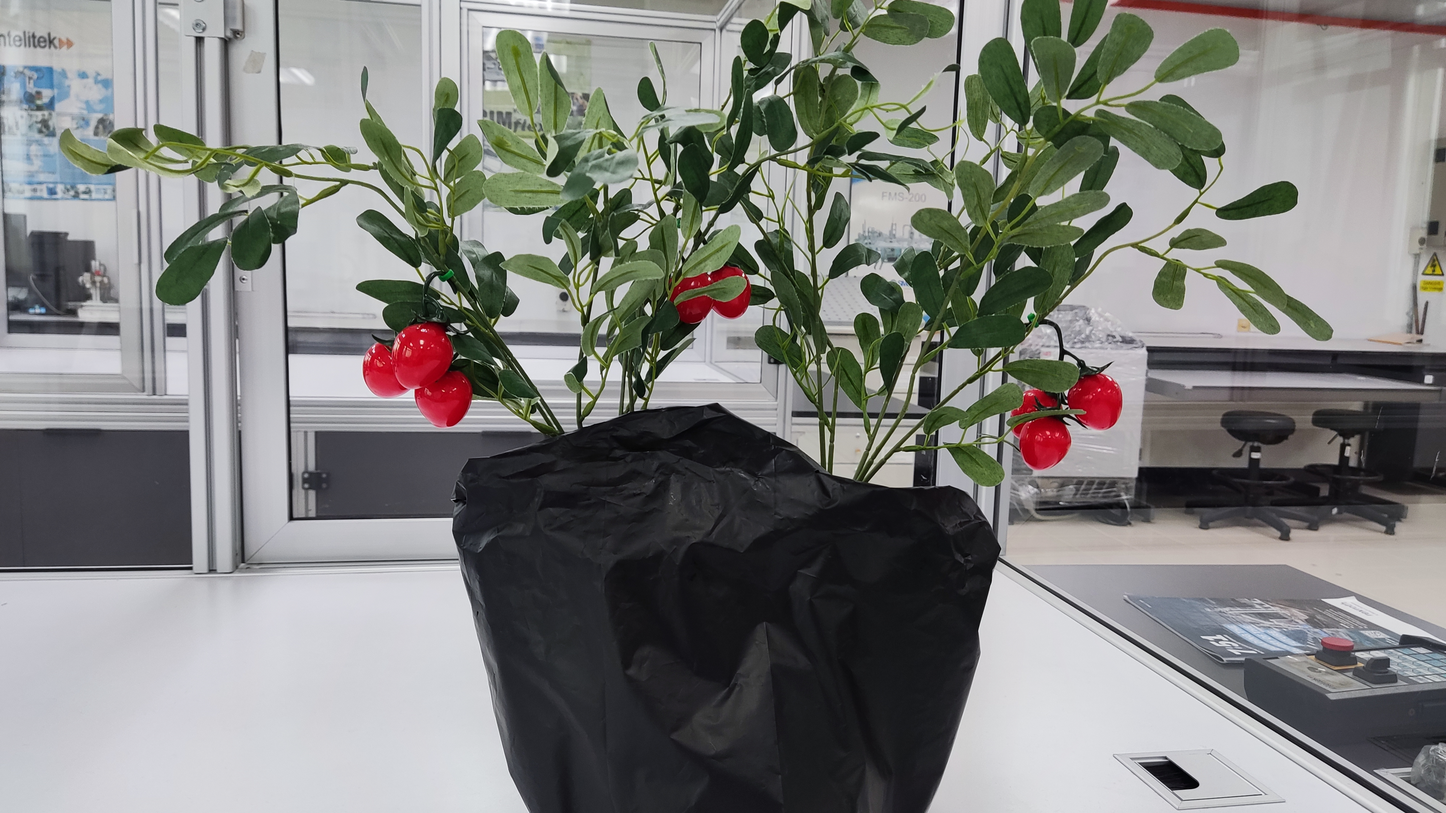peduncle: (1045, 319, 1064, 348), (423, 271, 438, 293)
strawberry: (391, 321, 453, 387), (413, 370, 471, 427), (1067, 373, 1123, 430), (1019, 418, 1071, 471), (361, 341, 406, 397), (711, 266, 751, 319), (1012, 389, 1058, 417), (669, 272, 710, 300), (676, 295, 714, 322)
